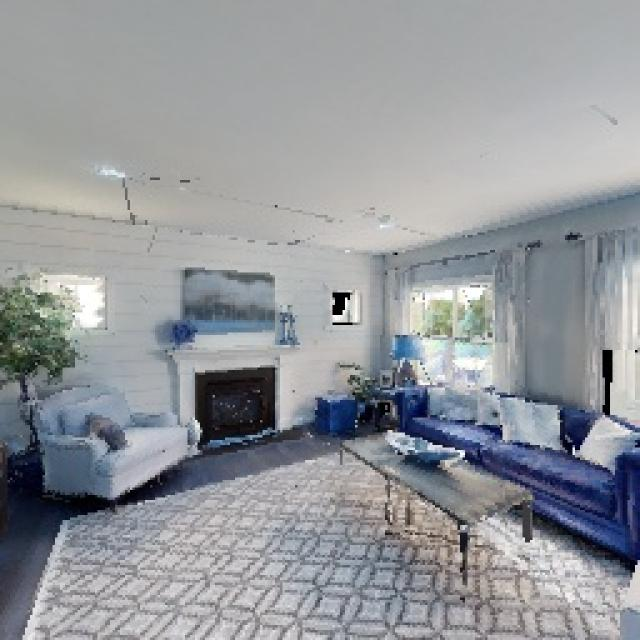sofa: (387, 357, 640, 570), (22, 377, 225, 530)
table: (308, 408, 563, 598)
